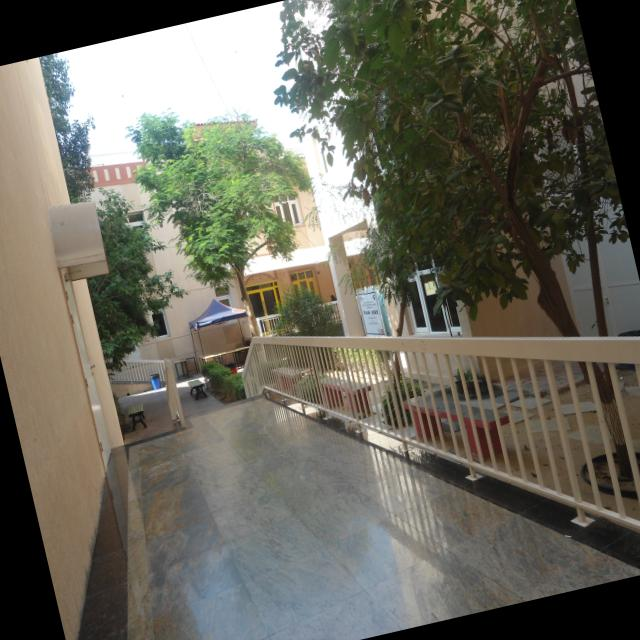bench: (128, 403, 146, 431), (188, 378, 207, 400)
path: (77, 382, 640, 640)
railing: (243, 336, 640, 530), (163, 359, 185, 427), (109, 358, 166, 383)
tree-chair-bench-table-wall: (275, 0, 629, 337), (128, 113, 311, 336), (87, 190, 184, 372), (39, 53, 94, 202)
